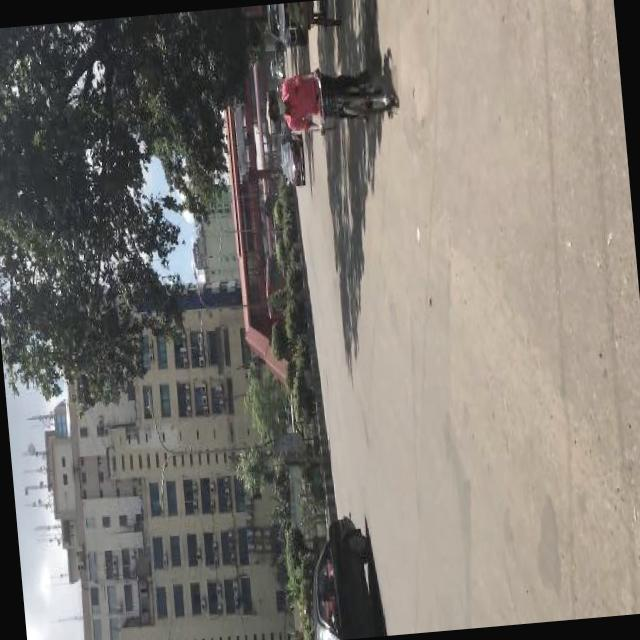bus: (262, 88, 289, 138)
car: (298, 507, 377, 640), (278, 132, 306, 188)
